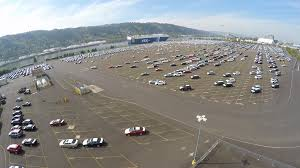car: (123, 125, 147, 137), (82, 135, 104, 148), (6, 143, 26, 154), (58, 139, 79, 148), (48, 117, 67, 126), (178, 83, 192, 93), (21, 138, 39, 145), (6, 129, 24, 136), (23, 124, 36, 131), (154, 80, 167, 86), (21, 118, 33, 124), (21, 101, 33, 107), (214, 79, 224, 86), (226, 77, 236, 84), (10, 124, 21, 130), (223, 82, 234, 88), (232, 70, 243, 76), (189, 74, 199, 80), (251, 88, 261, 94), (270, 83, 280, 89), (11, 111, 25, 115), (10, 119, 20, 124), (12, 115, 22, 120), (207, 70, 216, 75), (254, 74, 263, 79), (11, 105, 21, 109), (222, 72, 230, 77)
